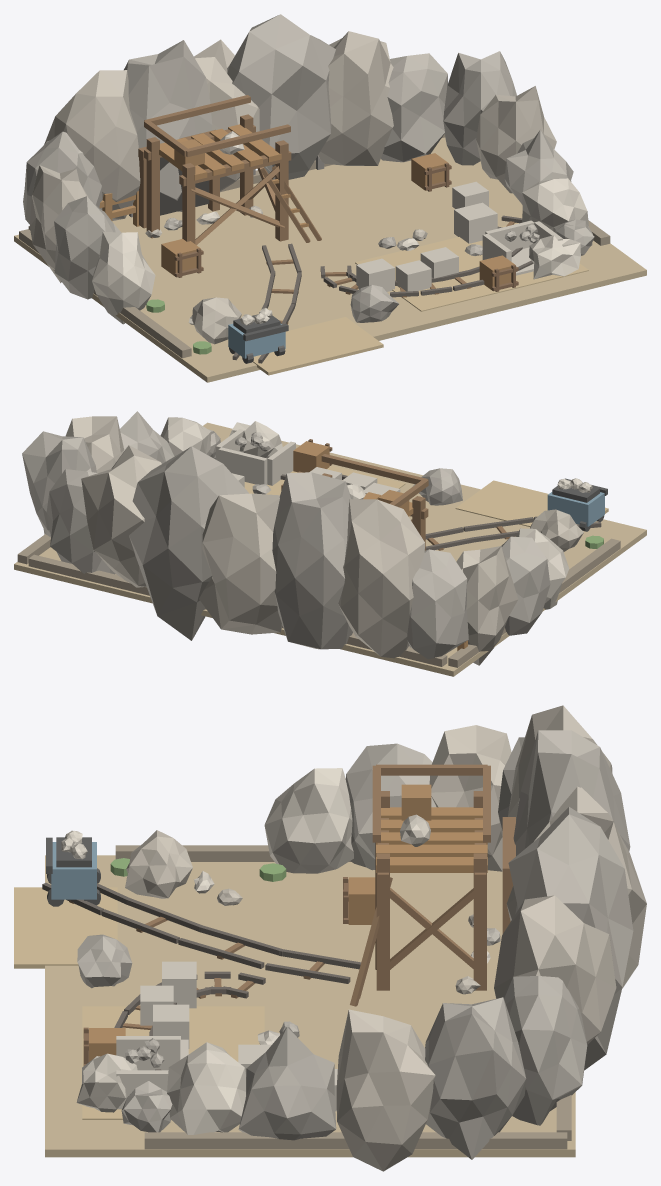
File: quarry.glb
3 views of the same model, one above another, from view 1: azimuth 30°, elevation 25°; view 2: azimuth 150°, elevation 25°; view 3: azimuth 270°, elevation 25° (orthographic). The views are drawn at different scales.
Parts seen in each view (by area): view 1: QuarryBase_floor_main, RockWall_Boulder_4, RockWall_Boulder_5, RockWall_Boulder_1, RockWall_Boulder_2, RockWall_Boulder_6, RockWall_Boulder_10, RockWall_Boulder_11, RockWall_Boulder_8, RockWall_Boulder_9, QuarryBase_front_path_patch, QuarryBase_right_loop_patch (+34 smaller); view 2: RockWall_Boulder_4, RockWall_Boulder_2, RockWall_Boulder_1, RockWall_Boulder_3, QuarryBase_floor_main, RockWall_Boulder_5, RockWall_Boulder_0, RockWall_Boulder_7, RockWall_Boulder_6, RockWall_Boulder_10, RockWall_Boulder_8, QuarryBase_front_path_patch (+19 smaller); view 3: QuarryBase_floor_main, RockWall_Boulder_11, RockWall_Boulder_10, RockWall_Boulder_4, RockWall_Boulder_5, RockWall_Boulder_6, RockWall_Boulder_12, RockWall_Boulder_9, RockWall_Boulder_2, QuarryBase_front_path_patch, RockWall_Boulder_13, RockWall_Boulder_7 (+39 smaller).
Boxes of the visible parts, x1,y1,x2,y2 form: QuarryBase_floor_main: (14,137,646,382); RockWall_Boulder_4: (227,14,335,179); RockWall_Boulder_5: (318,31,393,165); RockWall_Boulder_1: (44,70,140,220); RockWall_Boulder_2: (124,40,212,211); RockWall_Boulder_6: (381,53,447,162); RockWall_Boulder_10: (443,51,516,165); RockWall_Boulder_11: (476,86,556,193); RockWall_Boulder_8: (54,196,120,299); RockWall_Boulder_9: (92,231,155,324); QuarryBase_front_path_patch: (253,317,383,375); QuarryBase_right_loop_patch: (355,223,588,311); RockWall_Boulder_4: (129,446,248,640); RockWall_Boulder_2: (272,472,352,649); RockWall_Boulder_1: (338,499,424,658); RockWall_Boulder_3: (199,493,282,634); QuarryBase_floor_main: (14,422,646,676); RockWall_Boulder_5: (81,445,161,587); RockWall_Boulder_0: (406,549,468,659); RockWall_Boulder_7: (456,546,518,665); RockWall_Boulder_6: (46,469,115,574); RockWall_Boulder_10: (22,431,96,537); RockWall_Boulder_8: (501,536,550,635); QuarryBase_front_path_patch: (455,480,608,526); QuarryBase_floor_main: (45,855,575,1157); RockWall_Boulder_11: (336,1009,435,1171); RockWall_Boulder_10: (425,997,526,1159); RockWall_Boulder_4: (508,807,633,1070); RockWall_Boulder_5: (494,895,616,1044); RockWall_Boulder_6: (503,976,587,1125); RockWall_Boulder_12: (238,1027,336,1140); RockWall_Boulder_9: (264,768,353,873); RockWall_Boulder_2: (513,730,630,856); QuarryBase_front_path_patch: (14,887,117,968); RockWall_Boulder_13: (167,1042,245,1134); RockWall_Boulder_7: (429,725,511,871).
Bounding box in the file's own units: 9.22 × 3.56 × 7.63.
